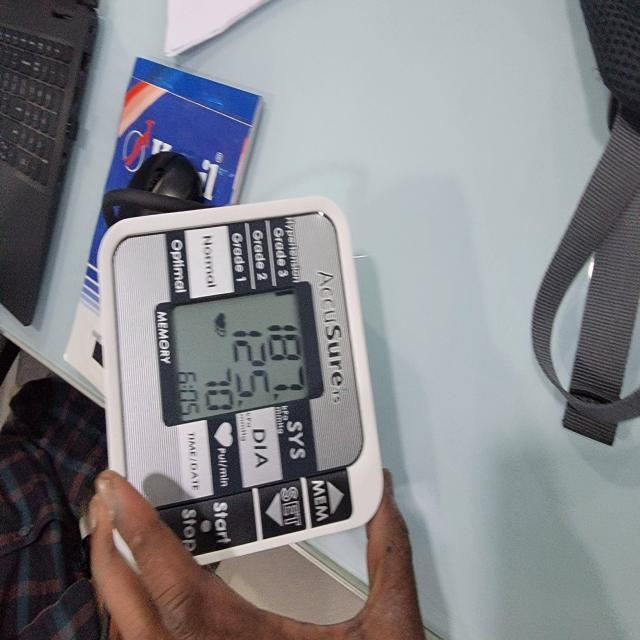bp: (96, 198, 385, 622)
